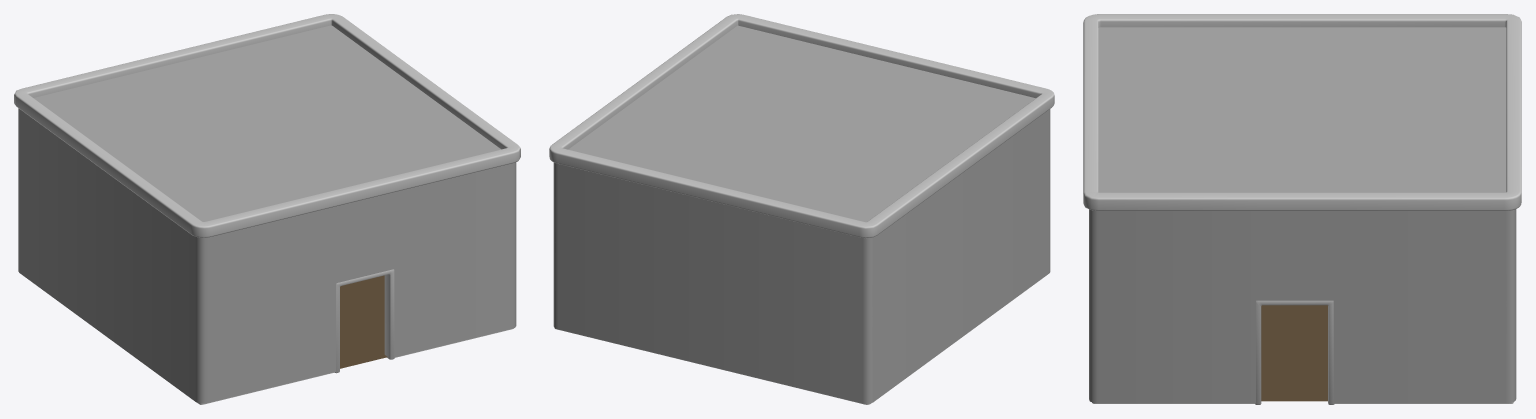
Rendered from SM_room_02.fbx.
The picture shows the model from 3 angles, left to right: view 1: azimuth 30°, elevation 25°; view 2: azimuth 150°, elevation 25°; view 3: azimuth 270°, elevation 25°; orthographic projection. The views are drawn at different scales.
Parts seen in each view (by area): view 1: Object081; view 2: Object081; view 3: Object081.
Part boxes in pixels (bbox=[...]): Object081: bbox=[14, 14, 520, 404]; Object081: bbox=[549, 14, 1054, 404]; Object081: bbox=[1083, 14, 1521, 404].
Bounding box in the file's own units: 319 × 168 × 319.
